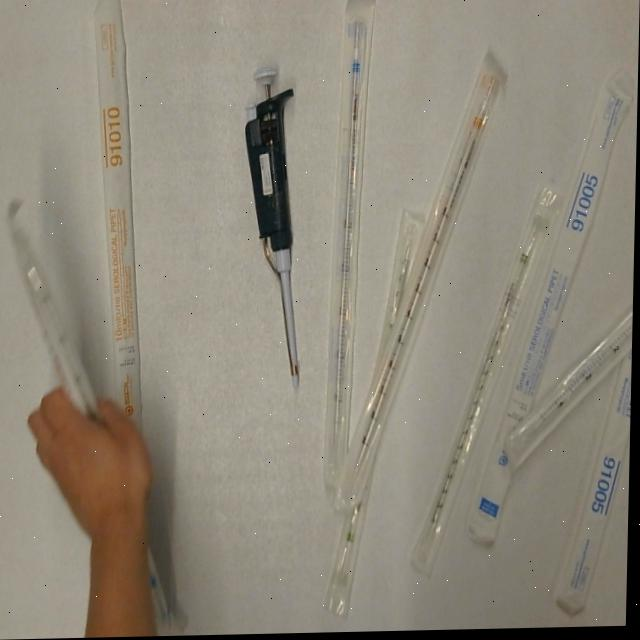Serelogical Pipet 10 mL - Sealed: (334, 50, 513, 518), (85, 0, 160, 468)
Serelogical Pipet 2 mL - Sealed: (411, 180, 565, 584), (326, 207, 424, 623)
Serelogical Pipet 5 mL - Sealed: (467, 81, 635, 549), (325, 0, 378, 505), (504, 303, 634, 480), (552, 349, 634, 618)
Single Channel Pipettor: (240, 54, 319, 392)
